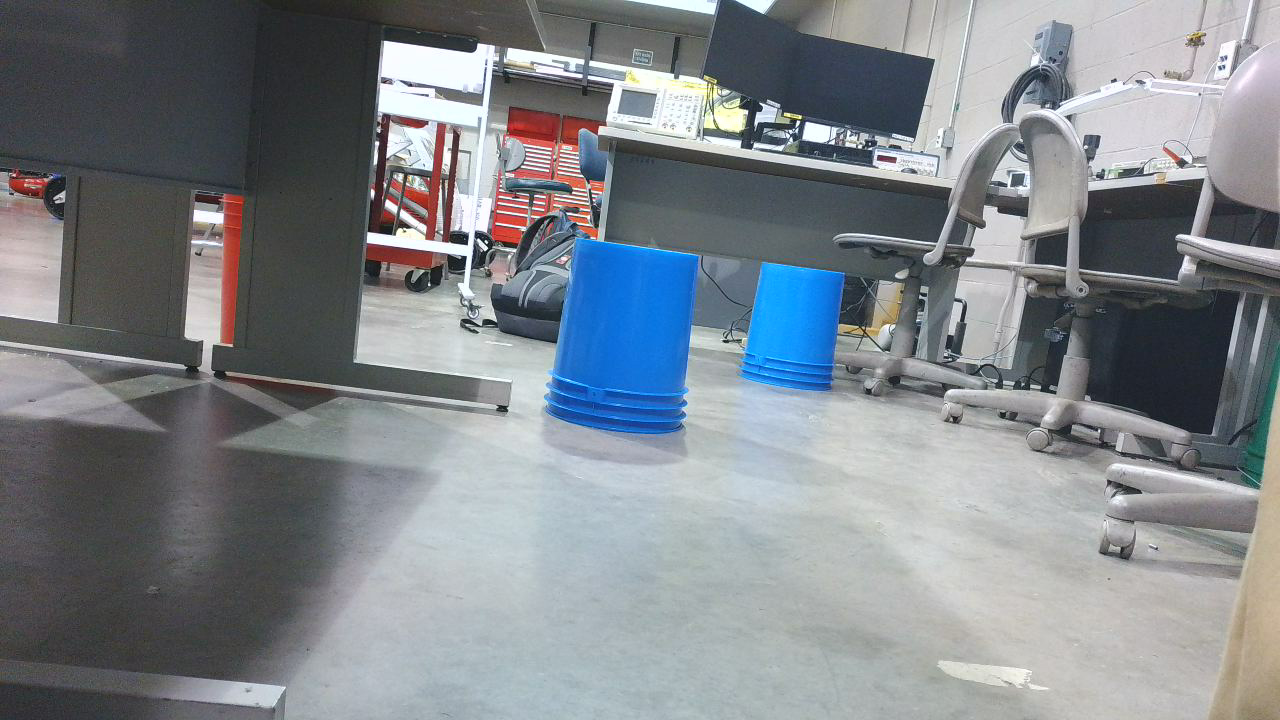blue_bucket: (544, 242, 706, 441), (736, 264, 856, 398)
